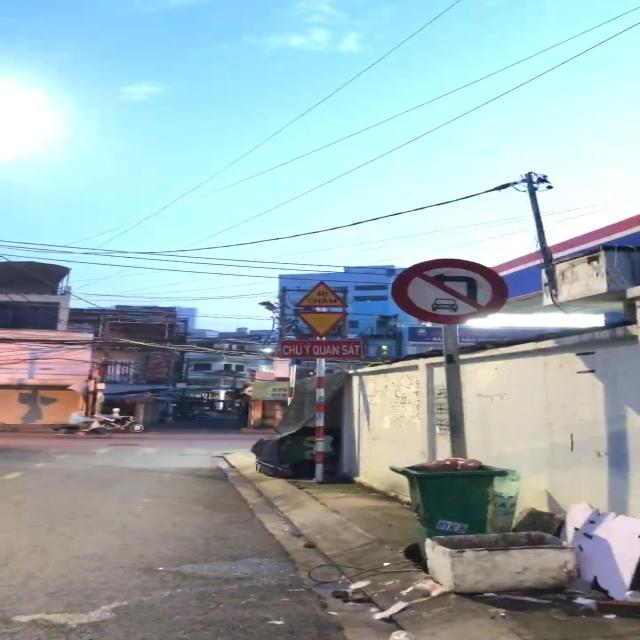Bien bao cam xe o to re trai: (389, 259, 513, 328)
Bien bao di cham: (289, 278, 352, 310)
Bien bao giao nhau voi duong uu tien: (292, 308, 355, 342)
